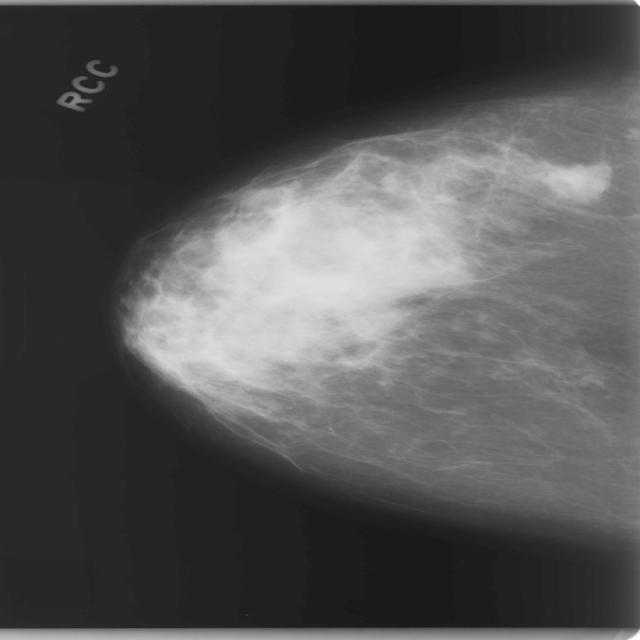tumour: (528, 158, 611, 202)
